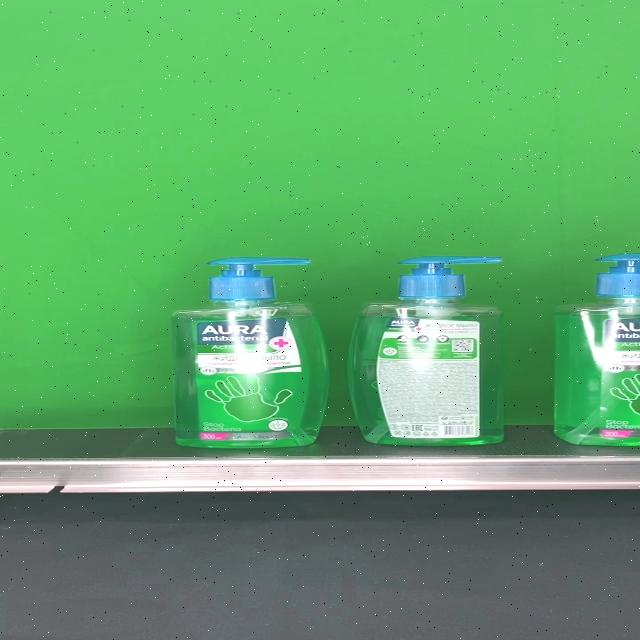Bottle: (169, 257, 328, 448), (350, 256, 504, 446)
Cap: (208, 257, 310, 300), (396, 258, 500, 298)
